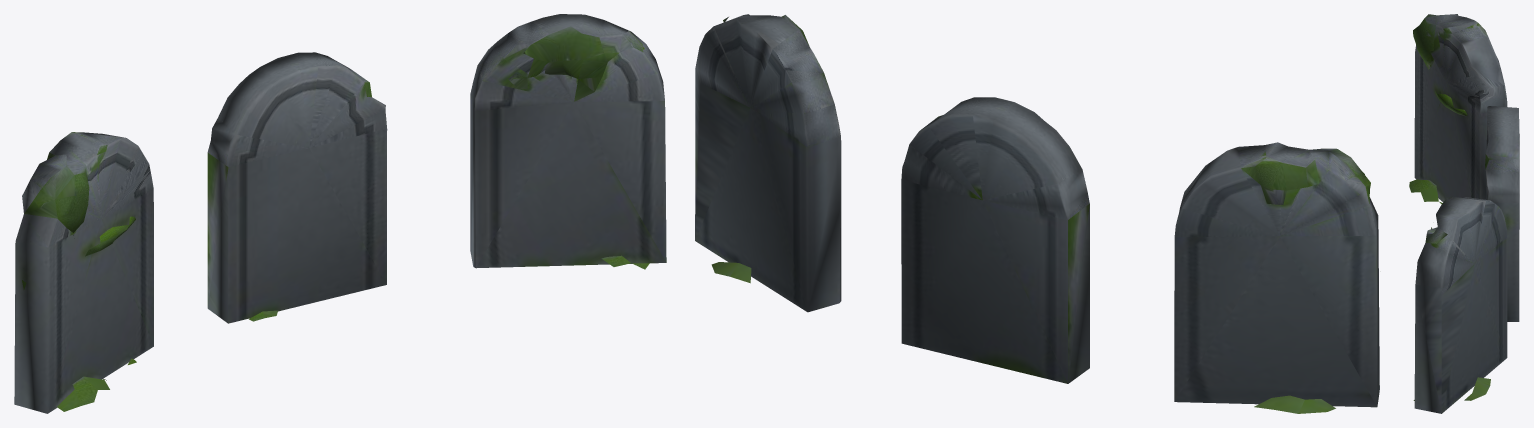
Rendered from tombstones.glb.
3 renders of one model, left to right at view 1: azimuth 30°, elevation 25°; view 2: azimuth 150°, elevation 25°; view 3: azimuth 270°, elevation 25°, orthographic. The views are drawn at different scales.
Size of the model in its own units: 0.9529 by 0.3369 by 0.1838.
1 material, 1 textured.
